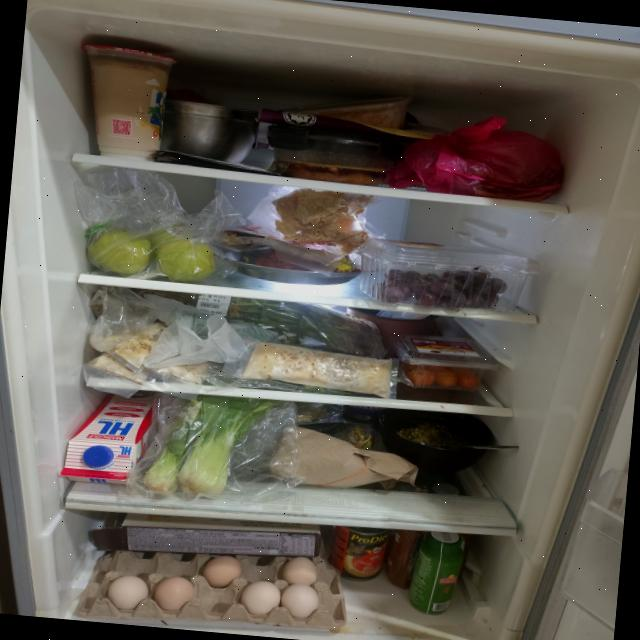apple: (84, 217, 219, 284)
egg: (76, 536, 352, 640)
grape: (370, 256, 509, 314)
leafy_greens: (181, 292, 388, 358)
pakchoy: (141, 388, 285, 504)
tempeh: (85, 314, 216, 391), (240, 340, 392, 398)
unknown_bag: (386, 108, 566, 204)
